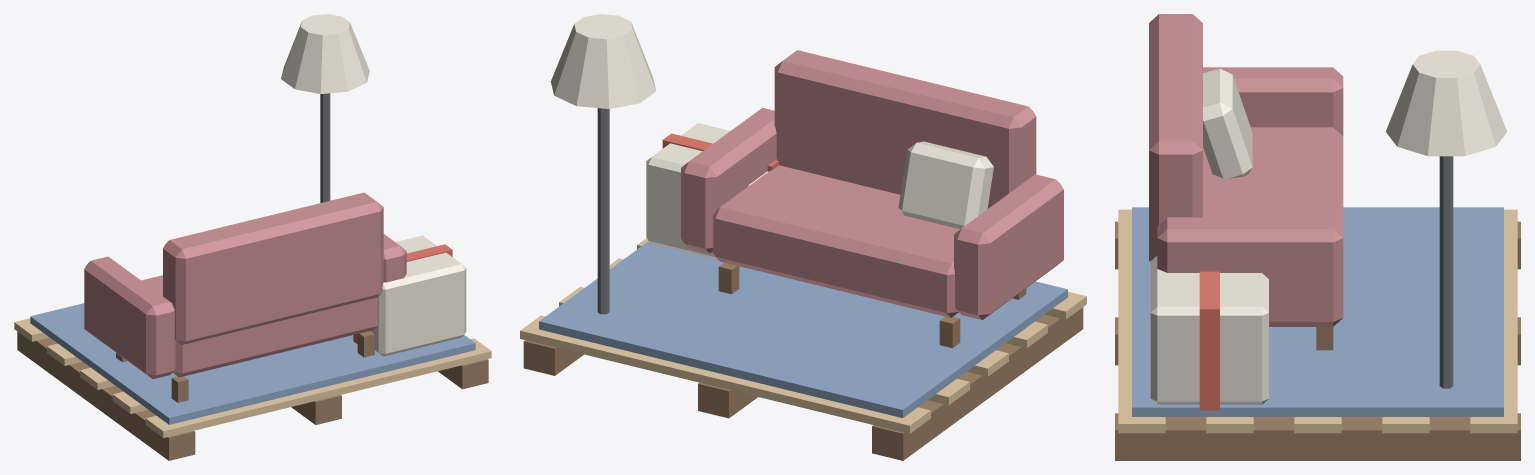
File: RoomSet.fbx
3 renders of one model, left to right at view 1: azimuth 30°, elevation 25°; view 2: azimuth 150°, elevation 25°; view 3: azimuth 270°, elevation 25°, orthographic. The views are drawn at different scales.
Parts seen in each view (by area): view 1: RoomSet_Mesh; view 2: RoomSet_Mesh; view 3: RoomSet_Mesh.
Part boxes in pixels (x1,y1,x2,y2): RoomSet_Mesh: (14, 14, 491, 460); RoomSet_Mesh: (520, 14, 1086, 460); RoomSet_Mesh: (1115, 14, 1520, 460).
Size of the model in its own units: 1.5 by 1.21 by 1.2.
